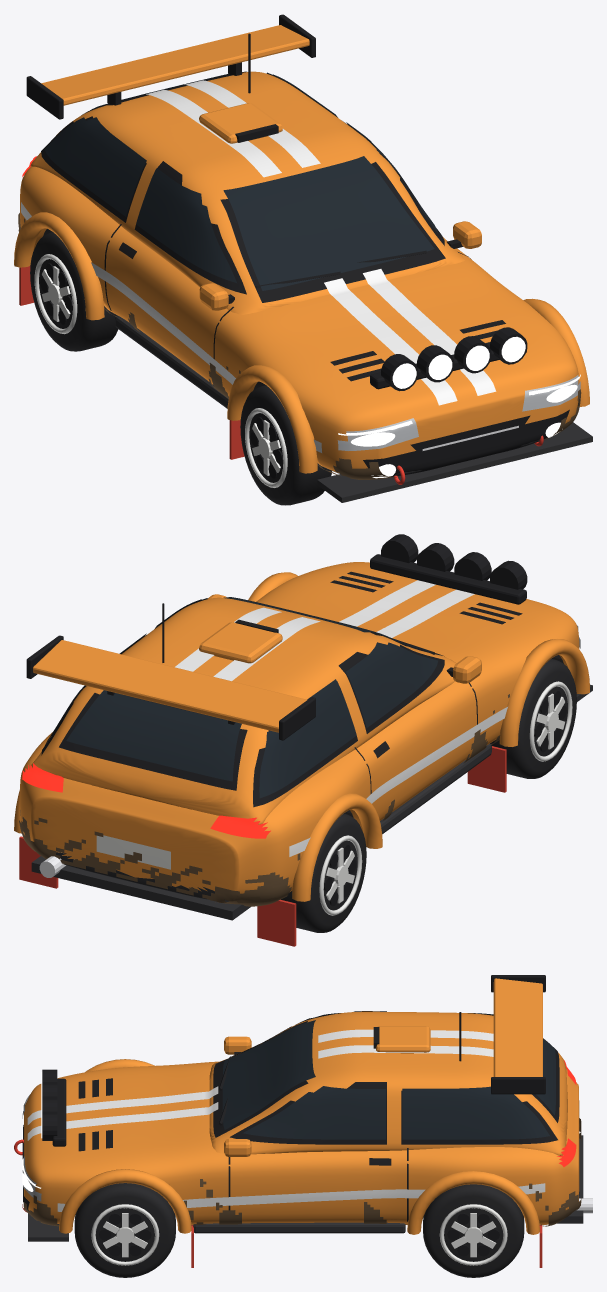
File: car_hatch.glb
3 views of the same model, one above another, from view 1: azimuth 30°, elevation 25°; view 2: azimuth 150°, elevation 25°; view 3: azimuth 270°, elevation 25° (orthographic). The views are drawn at different scales.
Parts seen in each view (by area): view 1: Body, WheelFR, WheelRR; view 2: Body, WheelFR, WheelRR; view 3: Body, WheelFL, WheelRL.
Boxes of the visible parts, <box> form: Body: <box>14,14,592,502</box>; WheelFR: <box>240,385,331,505</box>; WheelRR: <box>30,232,118,351</box>; Body: <box>14,534,592,946</box>; WheelFR: <box>490,658,576,778</box>; WheelRR: <box>281,813,366,932</box>; Body: <box>14,975,592,1267</box>; WheelFL: <box>74,1183,175,1277</box>; WheelRL: <box>423,1184,524,1277</box>.
Size of the model in its own units: 2.06 by 1.84 by 4.22.
